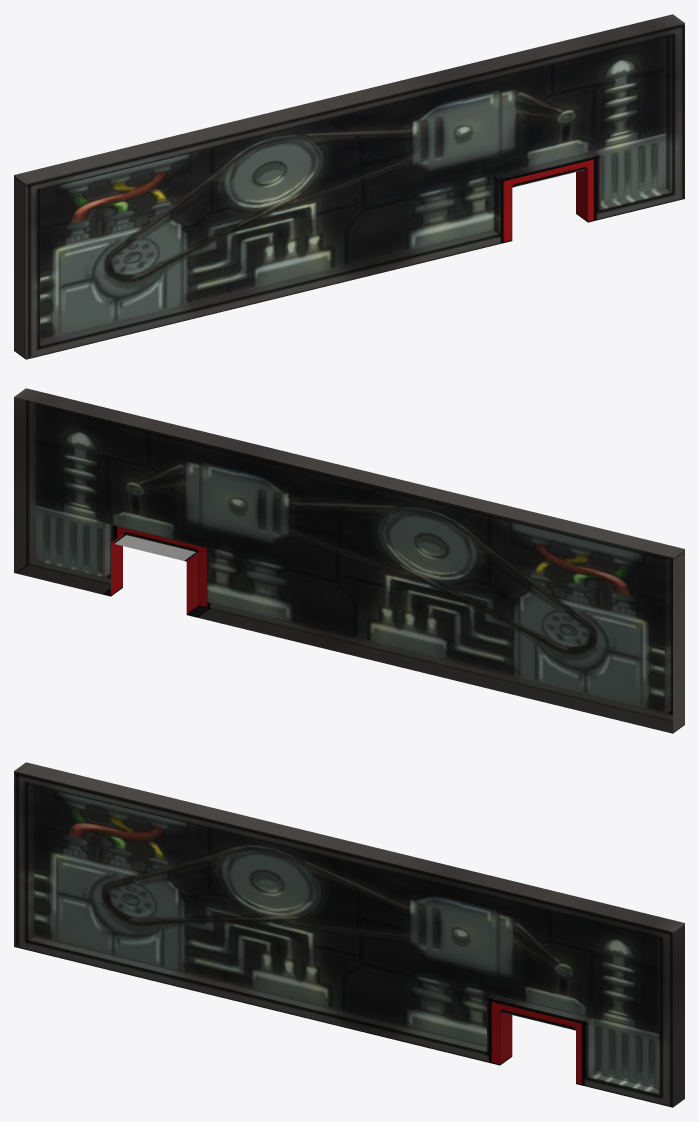
File: DUCK_RIGHT.fbx
3 renders of one model, top to bottom at view 1: azimuth 30°, elevation 25°; view 2: azimuth 150°, elevation 25°; view 3: azimuth 330°, elevation 25°, orthographic.
Visible parts, largest first — view 1: wall3; view 2: wall3; view 3: wall3.
Part boxes in pixels (left/top/right/bottom): wall3: left=14, top=14, right=684, bottom=359; wall3: left=14, top=388, right=684, bottom=733; wall3: left=14, top=762, right=684, bottom=1107.
Bounding box in the file's own units: 40.08 × 10.22 × 1.27.
1 material, 1 textured.
